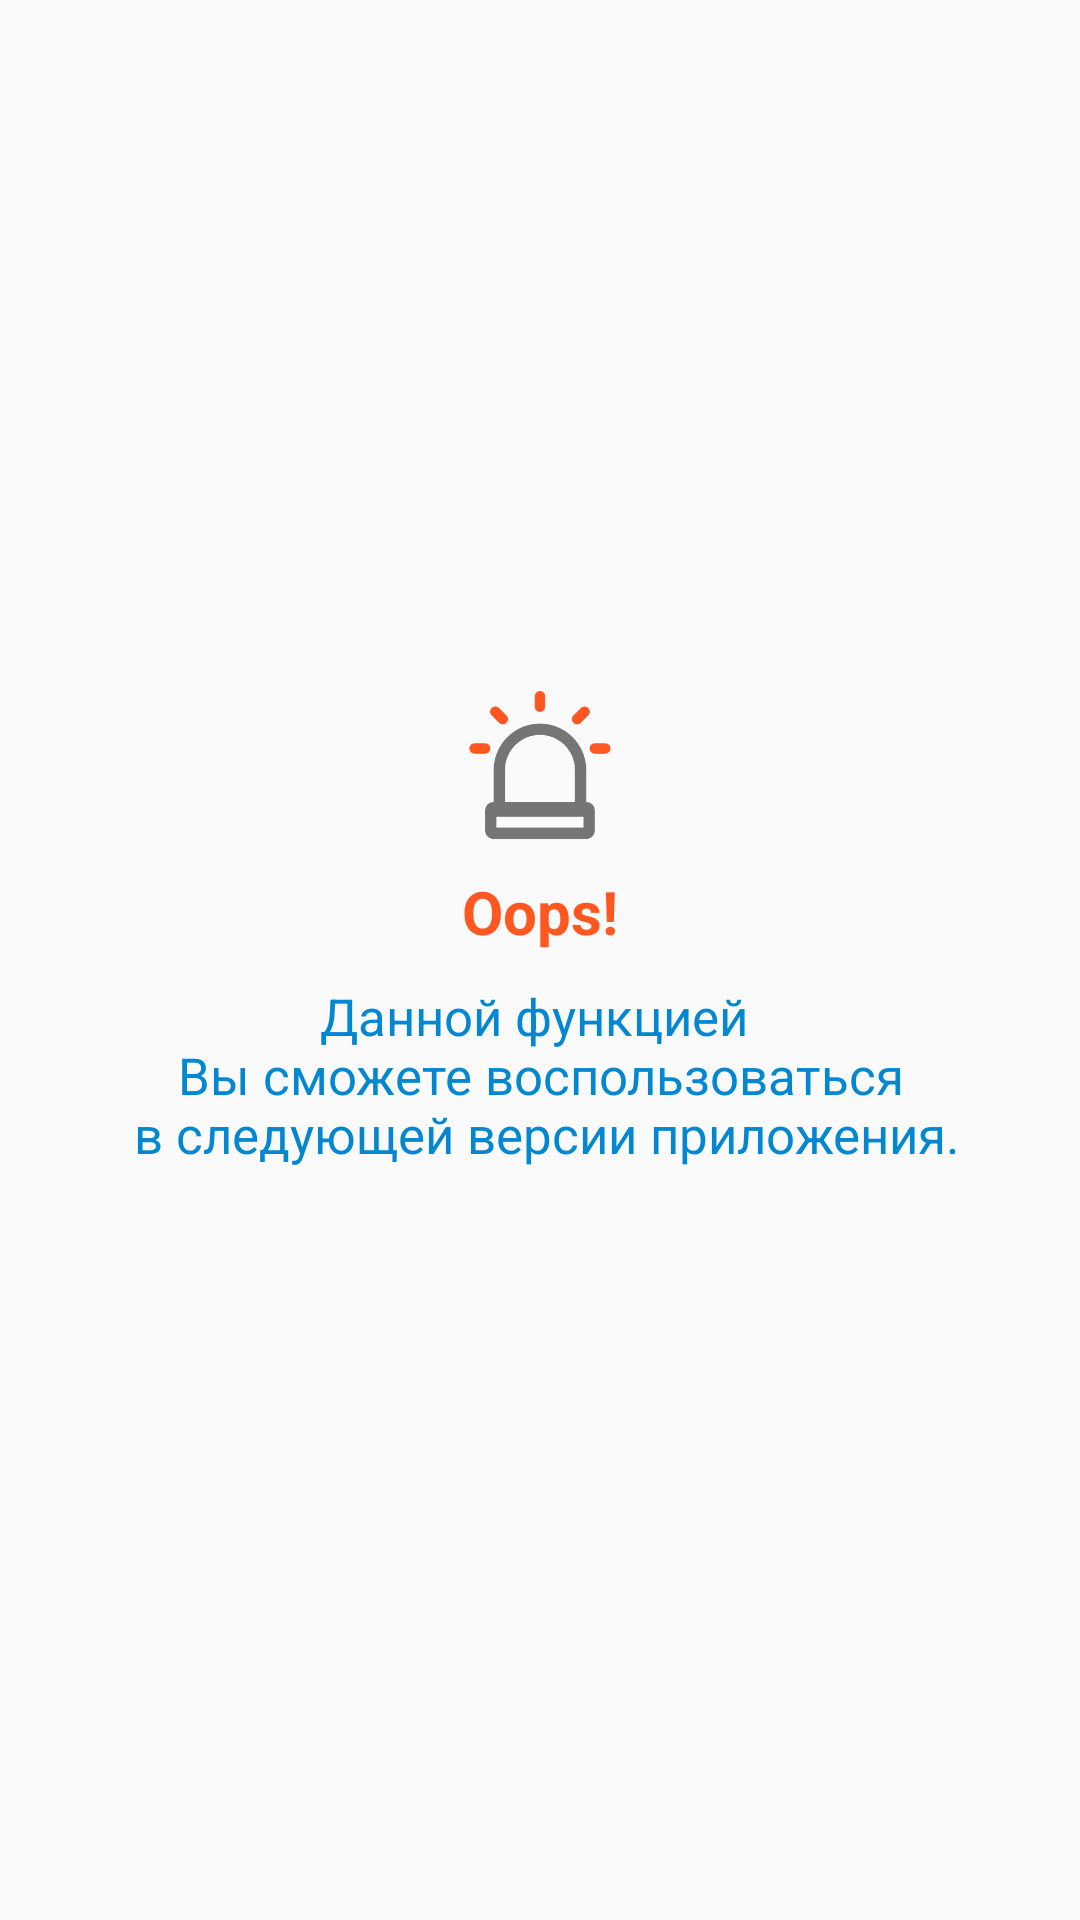

Screen size 1080x1920. Icon name, then its center in pixels as point (x, y):
alarm: point (540, 765)
